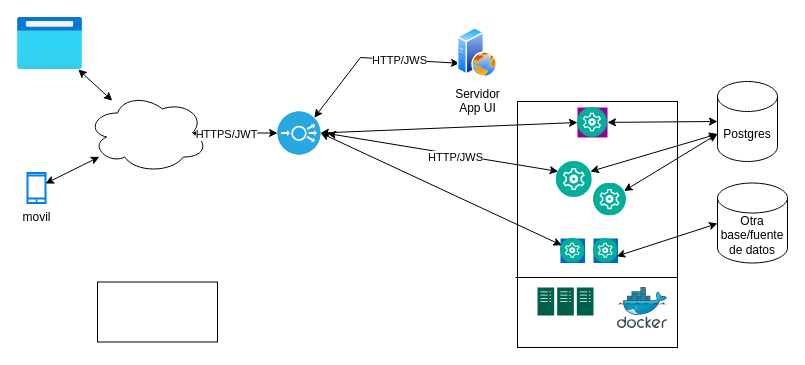
Image size: 805x365. Some labels were removed from this diagram. The shapes that lost their labels are listed below. From the top down, each one's centre as x and y in pixels, then its label:
At point (49, 43): "Navegador".
At point (298, 132): "LOAD BALANCER PROXY".
